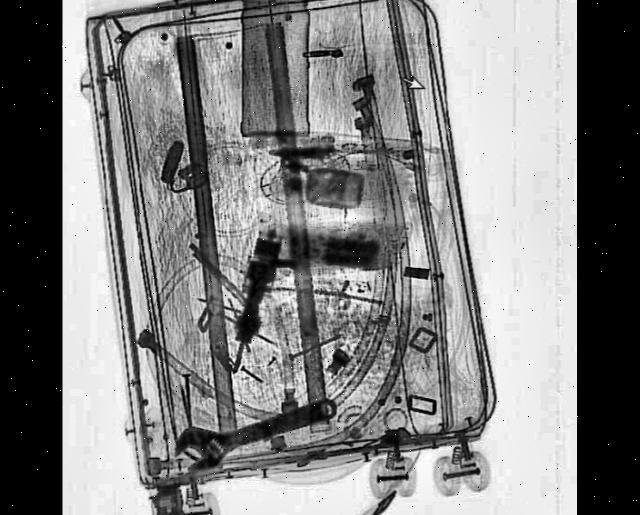Wrench: (174, 386, 342, 482)
